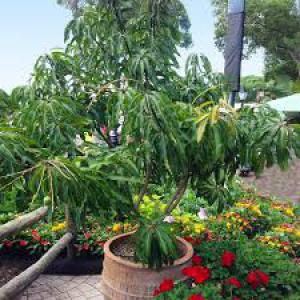Tree: (14, 1, 270, 294)
